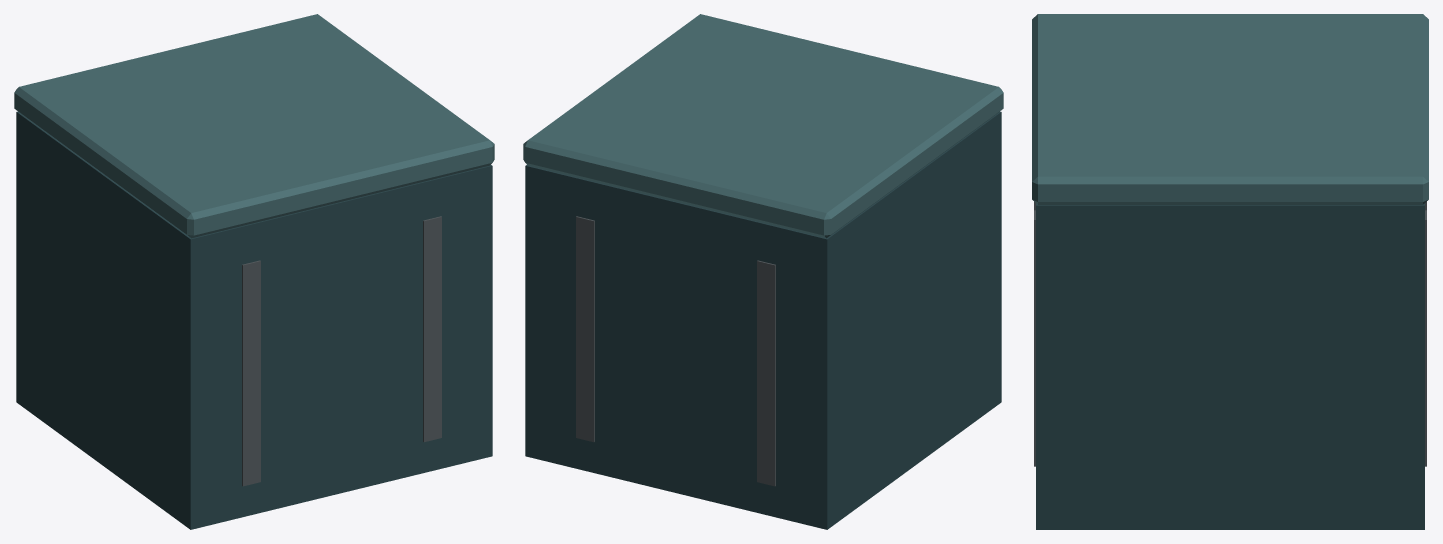
Rendered from kit_block.glb.
The picture shows the model from 3 angles, left to right: view 1: azimuth 30°, elevation 25°; view 2: azimuth 150°, elevation 25°; view 3: azimuth 270°, elevation 25°; orthographic projection. The views are drawn at different scales.
Visible parts, largest first — view 1: block, block_top, rib-1, rib1; view 2: block, block_top, rib-1, rib1; view 3: block, block_top, rib1.
Boxes of the visible parts, left/top/right/bottom form: block: left=16, top=111, right=492, bottom=529; block_top: left=14, top=14, right=494, bottom=238; rib-1: left=242, top=260, right=260, bottom=486; rib1: left=423, top=216, right=441, bottom=442; block: left=525, top=111, right=1001, bottom=529; block_top: left=523, top=14, right=1003, bottom=238; rib-1: left=757, top=260, right=775, bottom=486; rib1: left=576, top=216, right=594, bottom=442; block: left=1036, top=203, right=1424, bottom=529; block_top: left=1032, top=14, right=1428, bottom=204; rib1: left=1034, top=210, right=1426, bottom=466.
Size of the model in its own units: 1.02 by 1 by 1.02.
